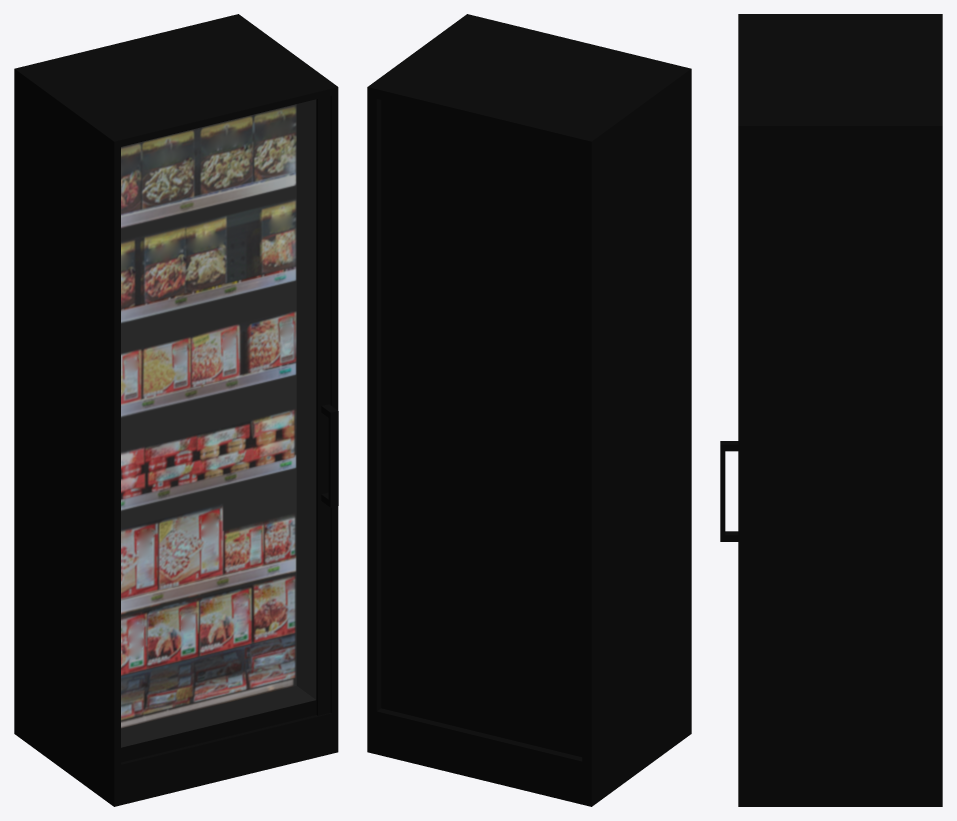
The model's file is Commercial fridge 4.fbx.
The picture shows the model from 3 angles, left to right: view 1: azimuth 30°, elevation 25°; view 2: azimuth 150°, elevation 25°; view 3: azimuth 270°, elevation 25°; orthographic projection. The views are drawn at different scales.
Visible parts, largest first — view 1: commercial fridge 4; view 2: commercial fridge 4; view 3: commercial fridge 4.
Part boxes in pixels (x1,y1,x2,y2): commercial fridge 4: (14, 14, 338, 806); commercial fridge 4: (367, 14, 691, 806); commercial fridge 4: (720, 14, 942, 806).
Size of the model in its own units: 65.15 by 185 by 54.58.
3 materials, 1 textured.
